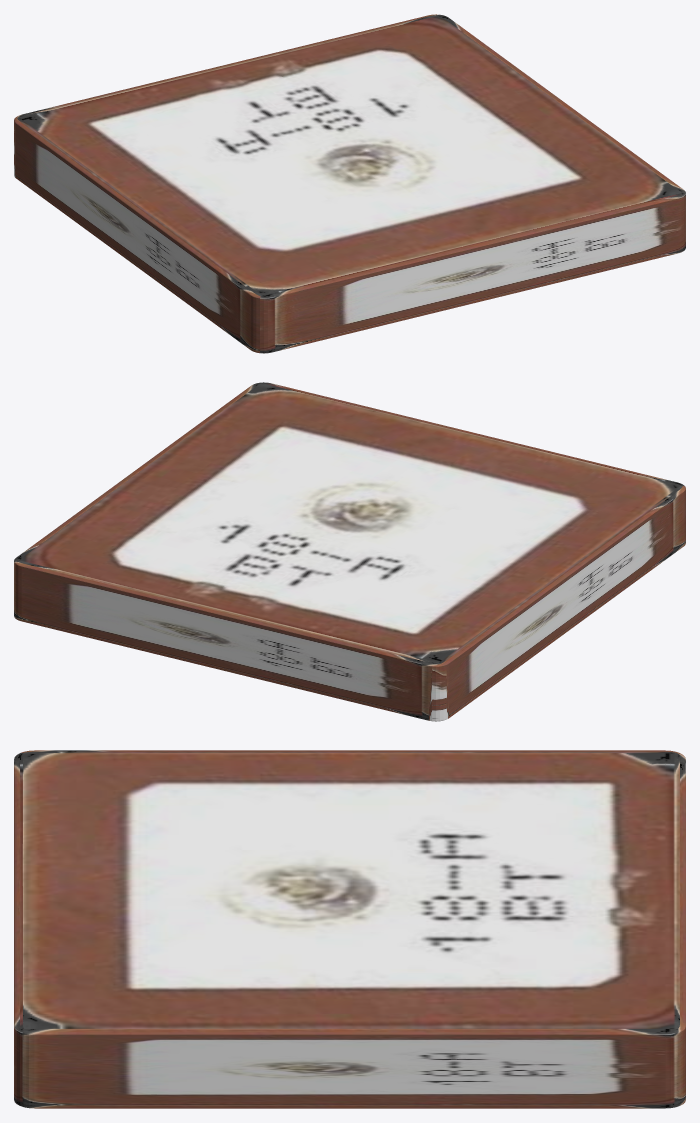
File: gps.dae
3 views of the same model, one above another, from view 1: azimuth 30°, elevation 25°; view 2: azimuth 150°, elevation 25°; view 3: azimuth 270°, elevation 25° (orthographic). The views are drawn at different scales.
Parts seen in each view (by area): view 1: Cube; view 2: Cube; view 3: Cube.
Boxes of the visible parts, <box> form: Cube: <box>14,14,685,353</box>; Cube: <box>14,382,685,721</box>; Cube: <box>14,750,685,1108</box>.
Size of the model in its own units: 2 by 2 by 0.2496.
Materials: 1 (1 with a texture image).
